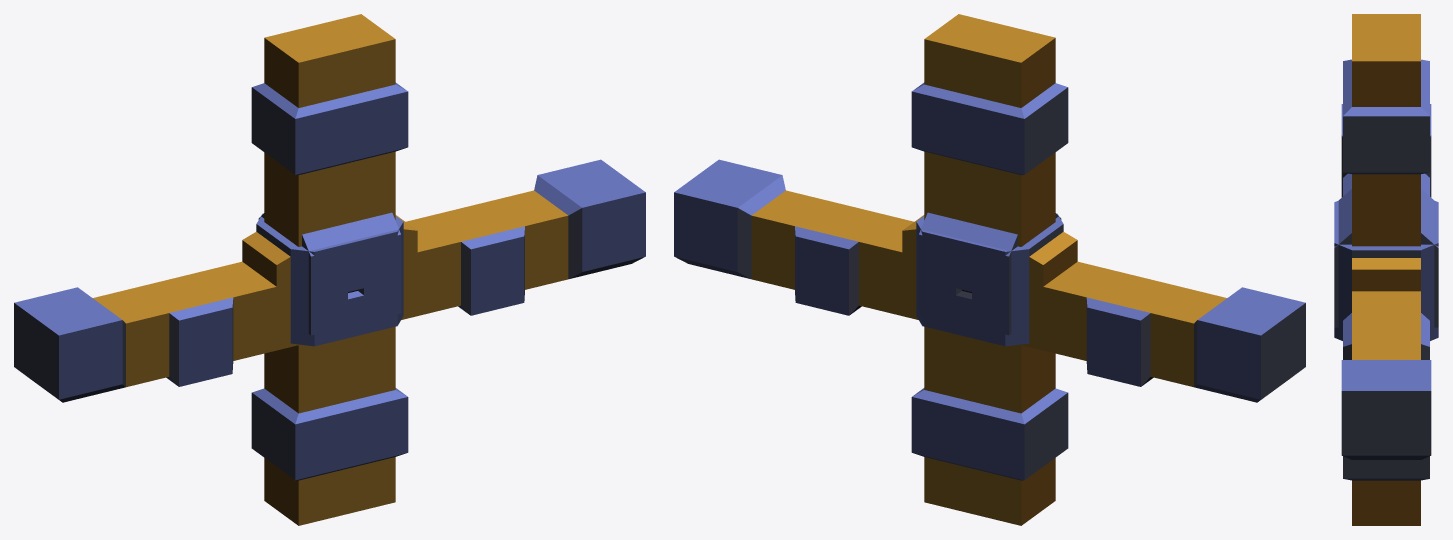
File: RobotDoorParts.dae
3 renders of one model, left to right at view 1: azimuth 30°, elevation 25°; view 2: azimuth 150°, elevation 25°; view 3: azimuth 270°, elevation 25°, orthographic.
Parts seen in each view (by area): view 1: FrameTop, FrameRight, FrameLeft, FrameBottom; view 2: FrameTop, FrameRight, FrameLeft, FrameBottom; view 3: FrameLeft, FrameTop, FrameRight, FrameBottom.
Part boxes in pixels (left/top/right/bottom): FrameTop: left=14, top=159, right=645, bottom=402; FrameRight: left=251, top=23, right=403, bottom=525; FrameLeft: left=256, top=14, right=408, bottom=516; FrameBottom: left=60, top=176, right=636, bottom=401; FrameTop: left=674, top=159, right=1305, bottom=402; FrameRight: left=916, top=23, right=1068, bottom=525; FrameLeft: left=911, top=14, right=1063, bottom=516; FrameBottom: left=687, top=180, right=1258, bottom=400; FrameLeft: left=1334, top=41, right=1438, bottom=525; FrameTop: left=1334, top=104, right=1438, bottom=459; FrameRight: left=1334, top=14, right=1438, bottom=340; FrameBottom: left=1334, top=139, right=1438, bottom=459.
Size of the model in its own units: 1.04 by 0.7845 by 0.16.
